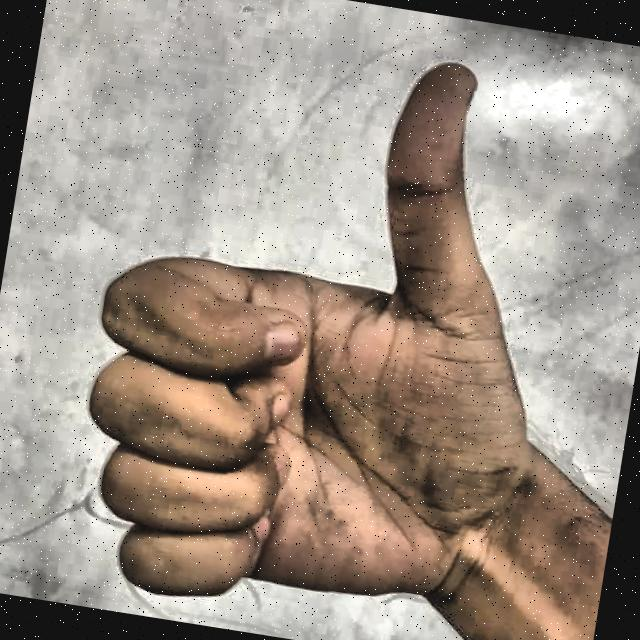Do: (30, 0, 592, 640)
